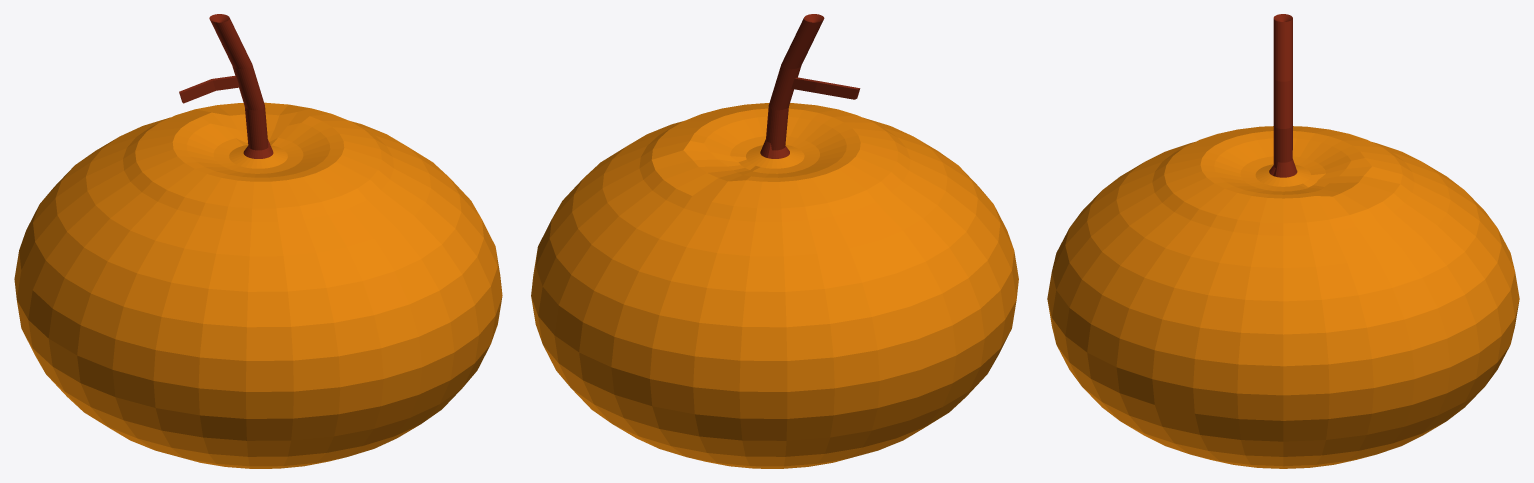
Rendered from Naranja.fbx.
3 renders of one model, left to right at view 1: azimuth 30°, elevation 25°; view 2: azimuth 150°, elevation 25°; view 3: azimuth 270°, elevation 25°, orthographic. The views are drawn at different scales.
Visible parts, largest first — view 1: Esfera; view 2: Esfera; view 3: Esfera.
Part boxes in pixels (x1,y1,x2,y2): Esfera: [14, 14, 502, 468]; Esfera: [531, 14, 1018, 468]; Esfera: [1047, 14, 1519, 468].
Size of the model in its own units: 328 by 317 by 339.
